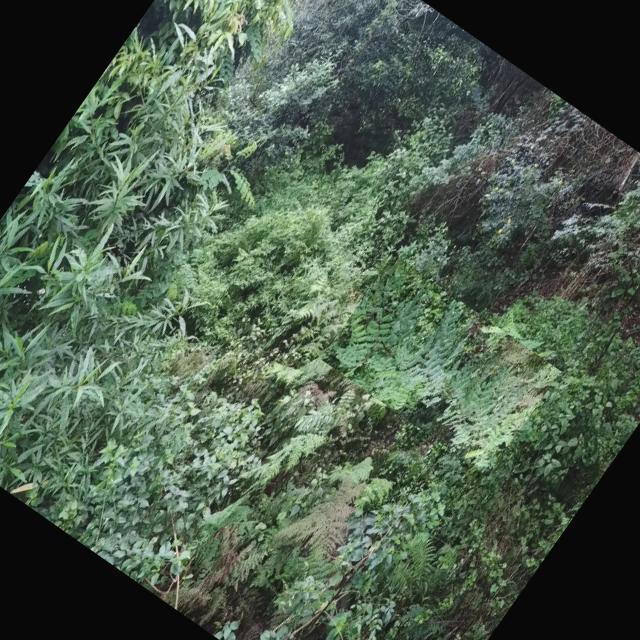Mysore-Thorn-Weed: (320, 254, 560, 476)
